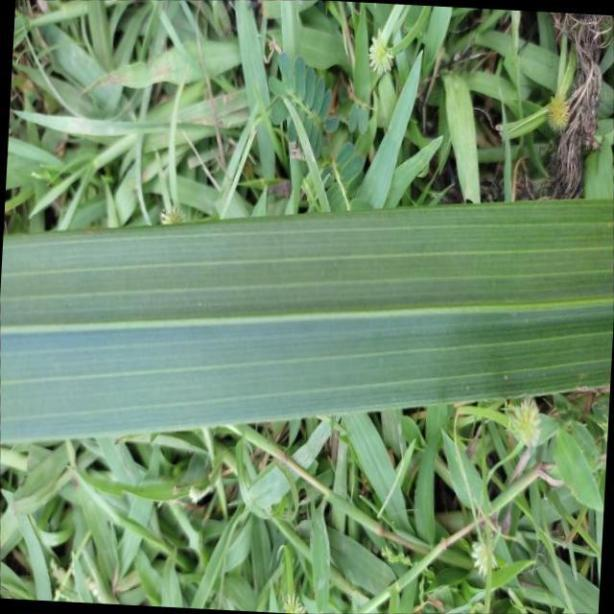Healthy: (5, 195, 614, 453)
